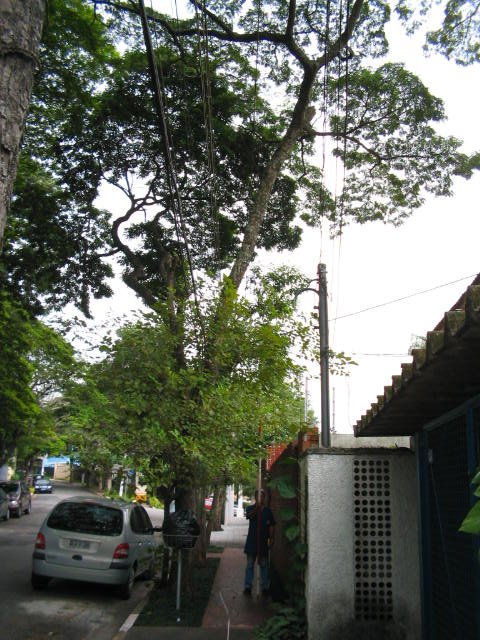stick: (251, 424, 267, 600)
tree: (49, 1, 479, 604)
